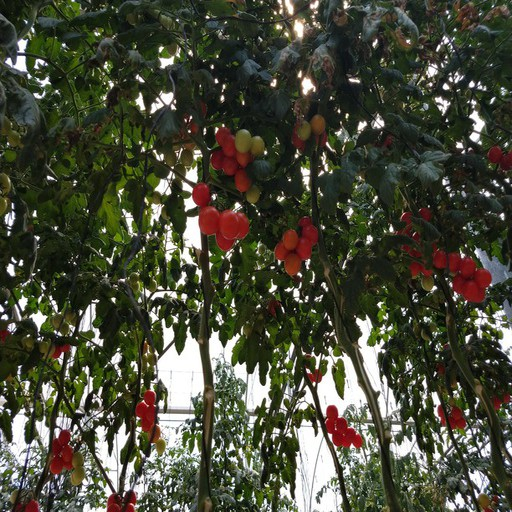green tomato bunch: (137, 340, 158, 375), (51, 309, 78, 335), (126, 272, 158, 292), (415, 321, 438, 339)
mixed tomato bunch: (209, 128, 265, 203), (161, 100, 209, 181), (48, 429, 87, 484), (136, 389, 165, 454), (242, 300, 284, 337), (291, 115, 328, 152), (26, 339, 69, 358)
red tomato bunch: (194, 180, 251, 250), (394, 206, 437, 279), (434, 251, 492, 302), (274, 215, 318, 275), (325, 405, 363, 450), (487, 142, 512, 172), (486, 383, 512, 410), (107, 489, 137, 512), (438, 405, 465, 430), (301, 353, 322, 383), (13, 498, 40, 512)
